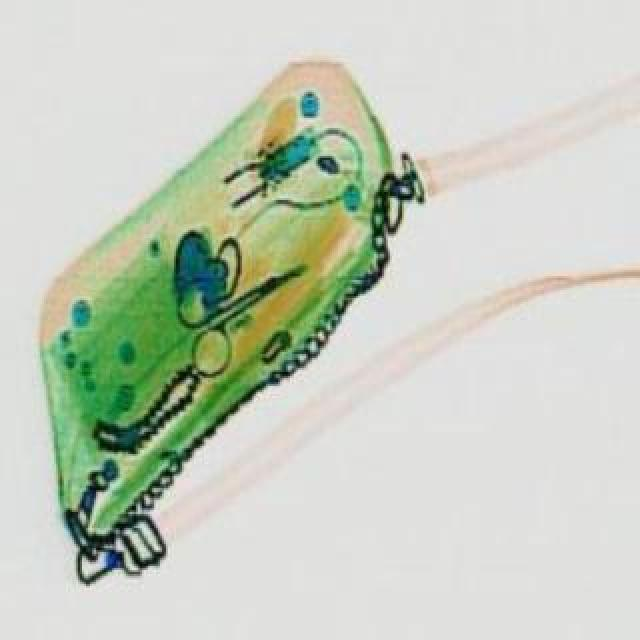pliers: (154, 240, 330, 388)
